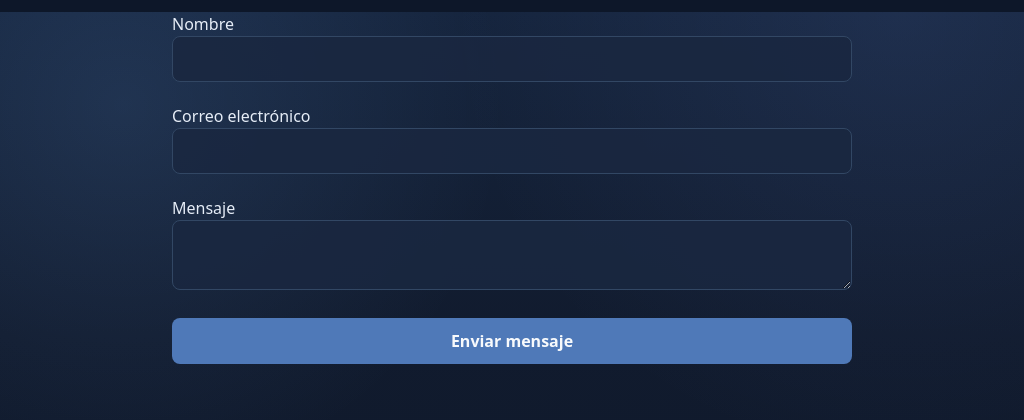
Test: ContactForm › does not submit the form if the email is invalid
The width and height of the screenshot is (1024, 420).
Type "John Doe" into the field labelled "Nombre" at (512, 59), box [172,36,852,82]
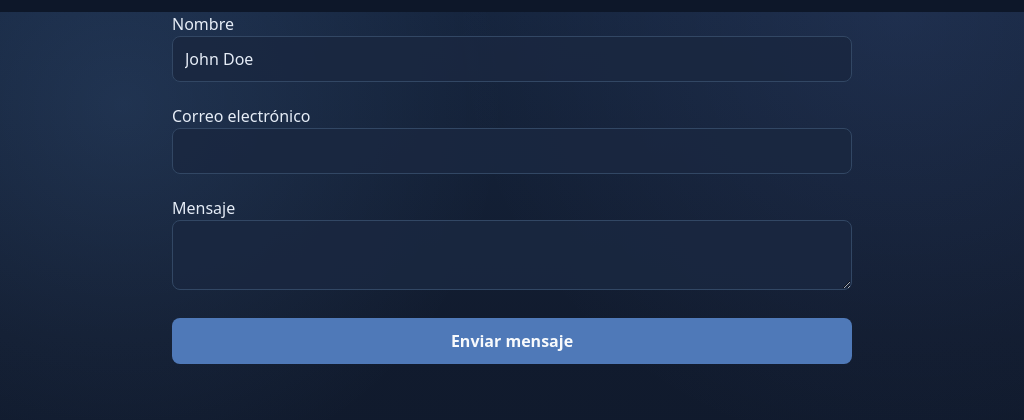
Type "invalid email" into the field labelled "Correo electrónico" at (512, 151), box [172,128,852,174]
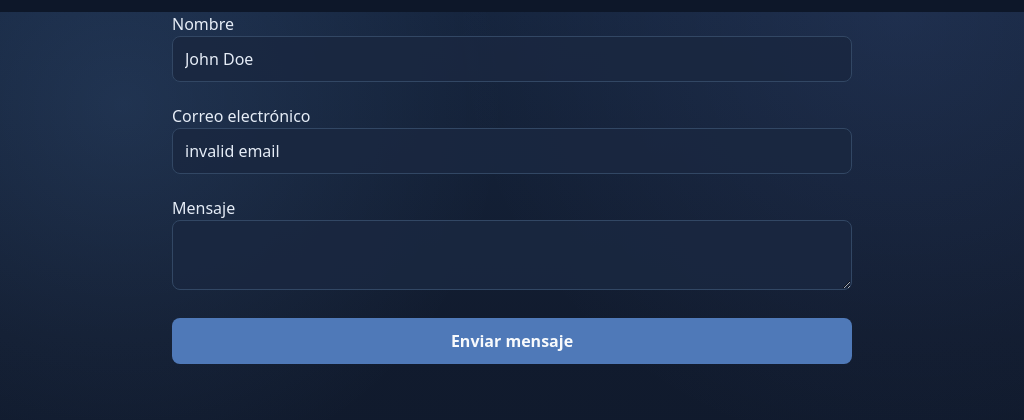
Type "Hola" into the text box labelled "Mensaje" at (512, 255), box [172,220,852,290]
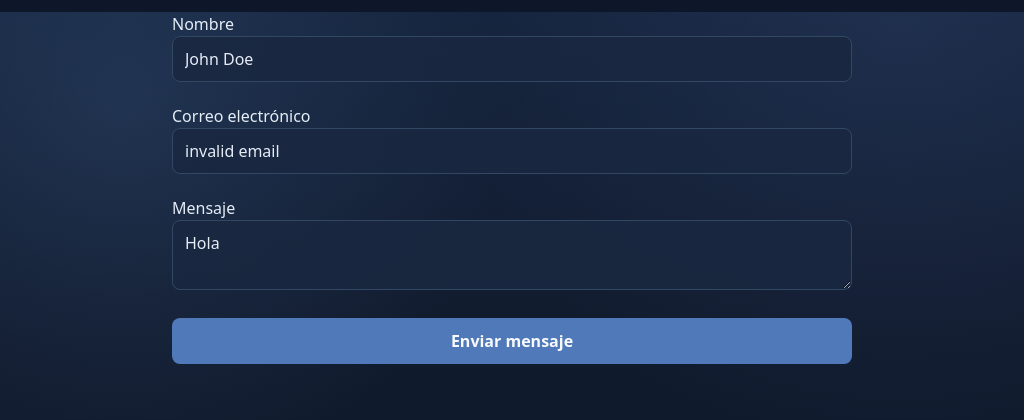
Submit the form from the button "Enviar mensaje", box [172,318,852,364]
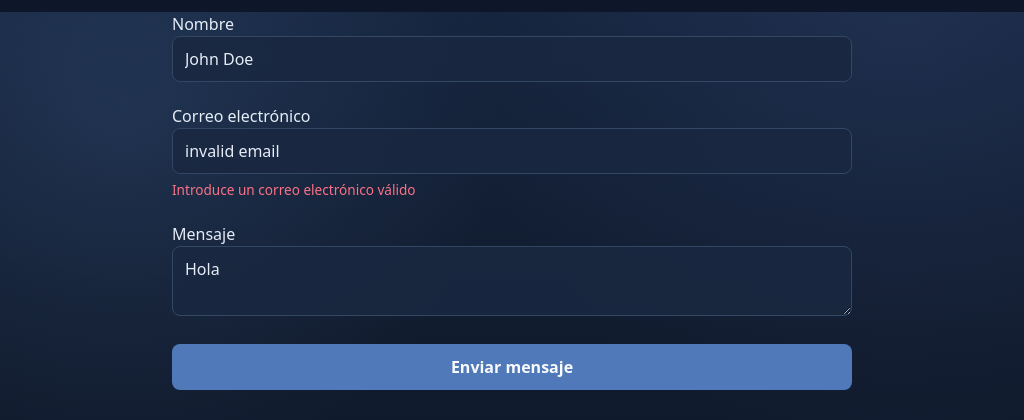
Result: the text "Introduce un correo electrónico válido" is shown at [172,180,416,199]
